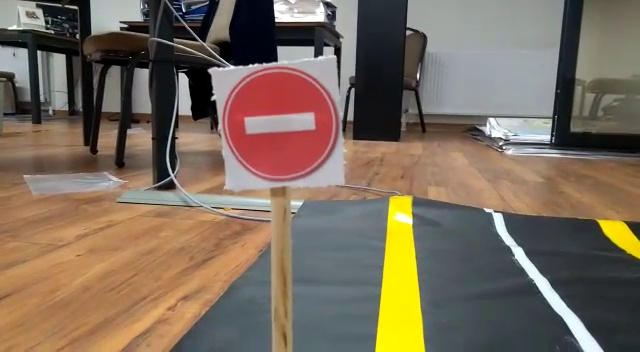girisi_olmayan_yol: (215, 61, 344, 184)
